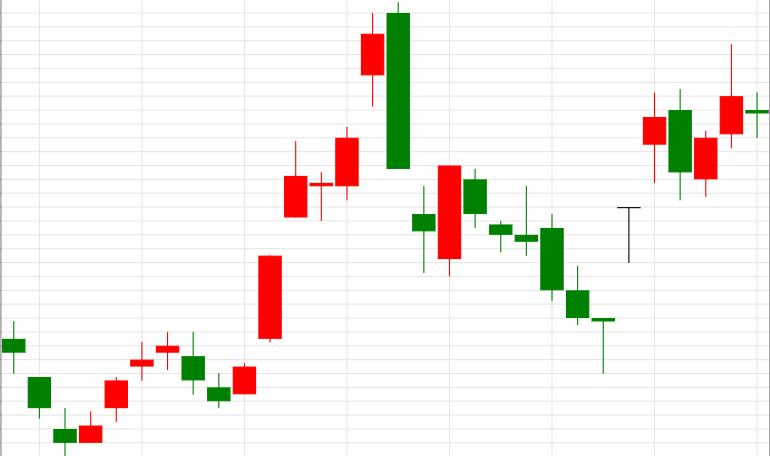bearish_engulfing_fall: (232, 2, 411, 395)
